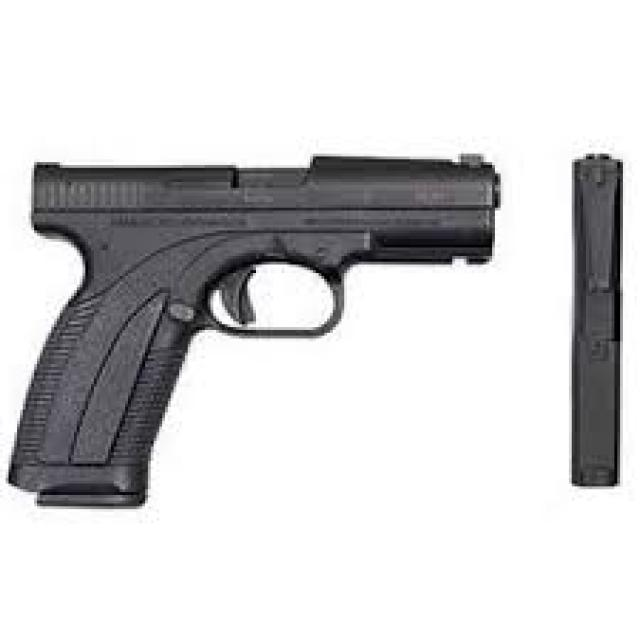Gun: (11, 125, 497, 523)
